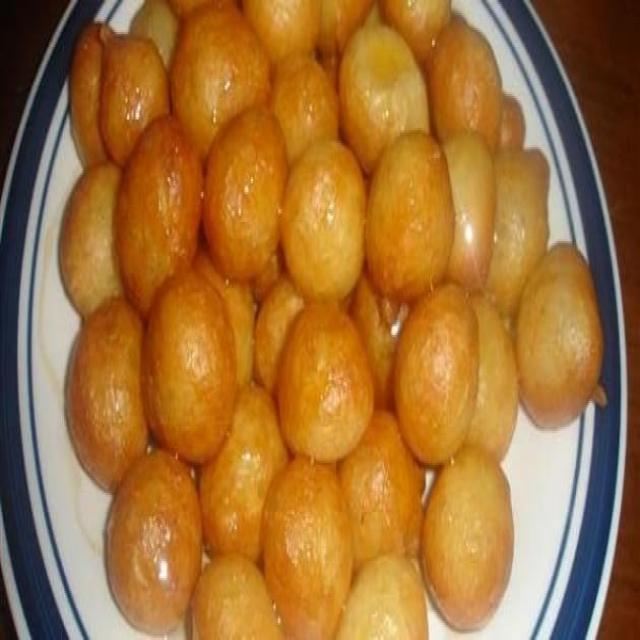Luqaimat: (60, 2, 592, 640)
